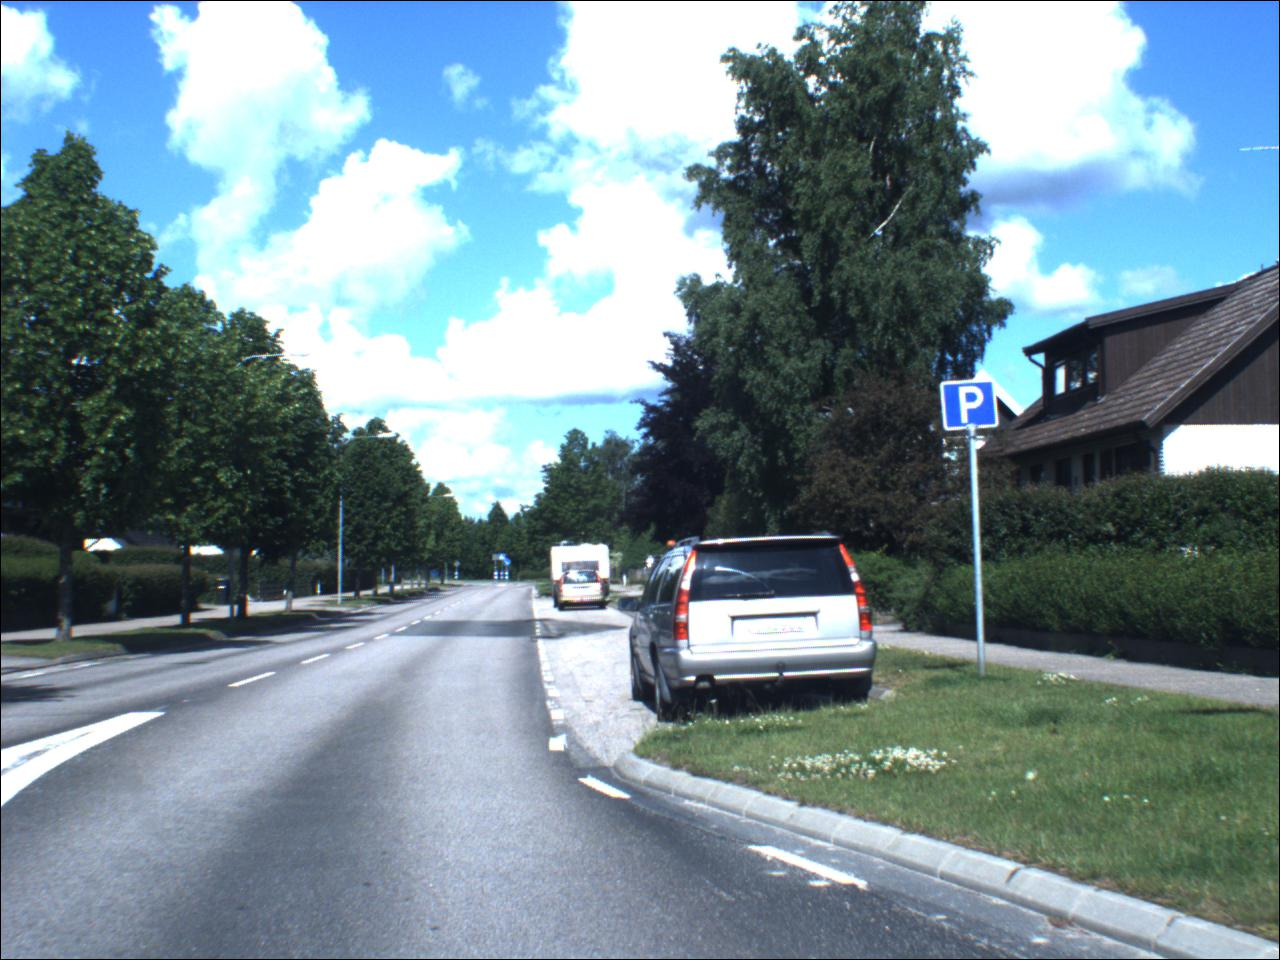PASS_RIGHT_SIDE: (506, 561, 514, 569)
PEDESTRIAN_CROSSING: (500, 555, 508, 563)
